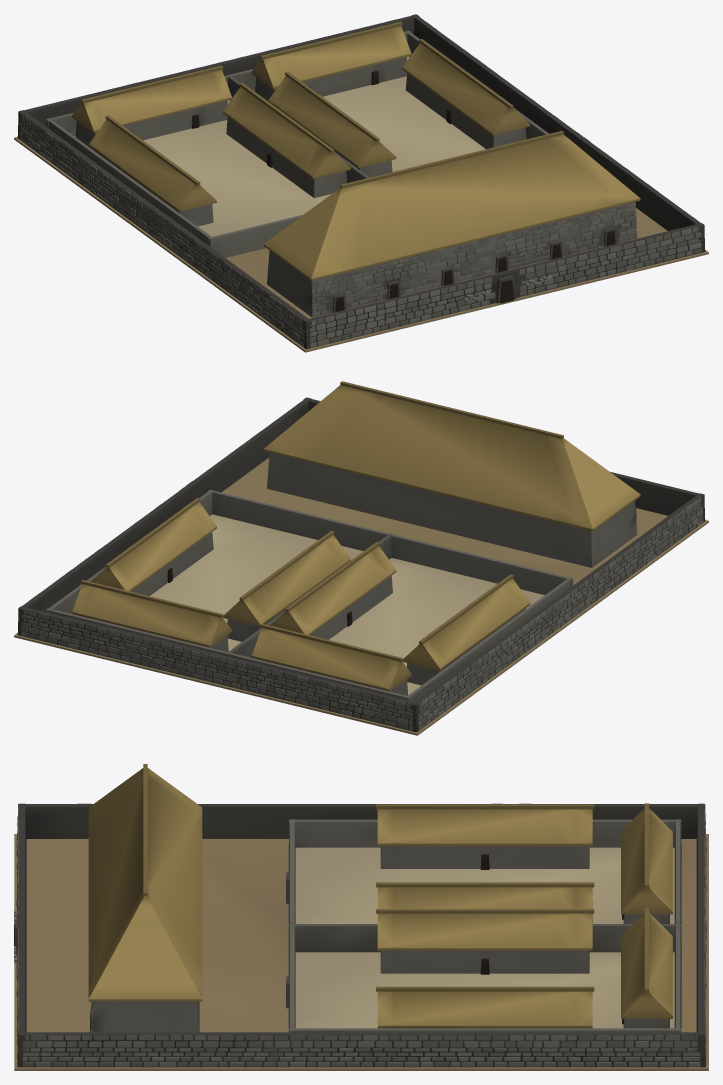
File: amarukancha.glb
3 renders of one model, top to bottom at view 1: azimuth 30°, elevation 25°; view 2: azimuth 150°, elevation 25°; view 3: azimuth 270°, elevation 25°, orthographic. The views are drawn at different scales.
Visible parts, largest first — view 1: p1_walls, p2_roofs, p0_ground; view 2: p1_walls, p2_roofs, p0_ground; view 3: p1_walls, p2_roofs, p0_ground.
Boxes of the visible parts, x1=… form: p1_walls: x1=17, y1=14, x2=705, y2=349; p2_roofs: x1=72, y1=21, x2=640, y2=280; p0_ground: x1=14, y1=137, x2=708, y2=352; p1_walls: x1=17, y1=397, x2=705, y2=732; p2_roofs: x1=72, y1=381, x2=640, y2=691; p0_ground: x1=14, y1=458, x2=708, y2=735; p1_walls: x1=14, y1=803, x2=706, y2=1067; p2_roofs: x1=88, y1=764, x2=672, y2=1028; p0_ground: x1=14, y1=834, x2=708, y2=1070.
Size of the model in its own units: 72 by 17.85 by 90.05.
